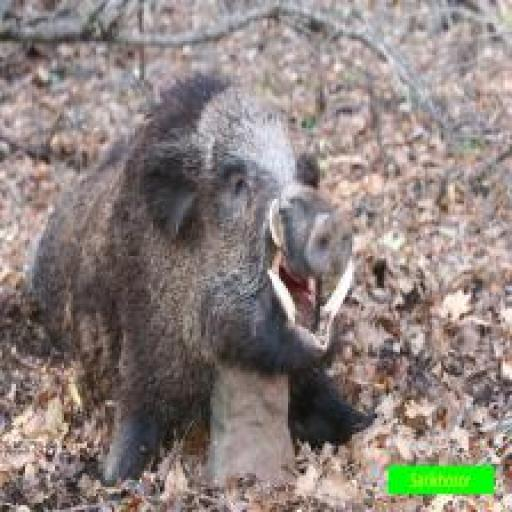Pig: (32, 68, 374, 487)
